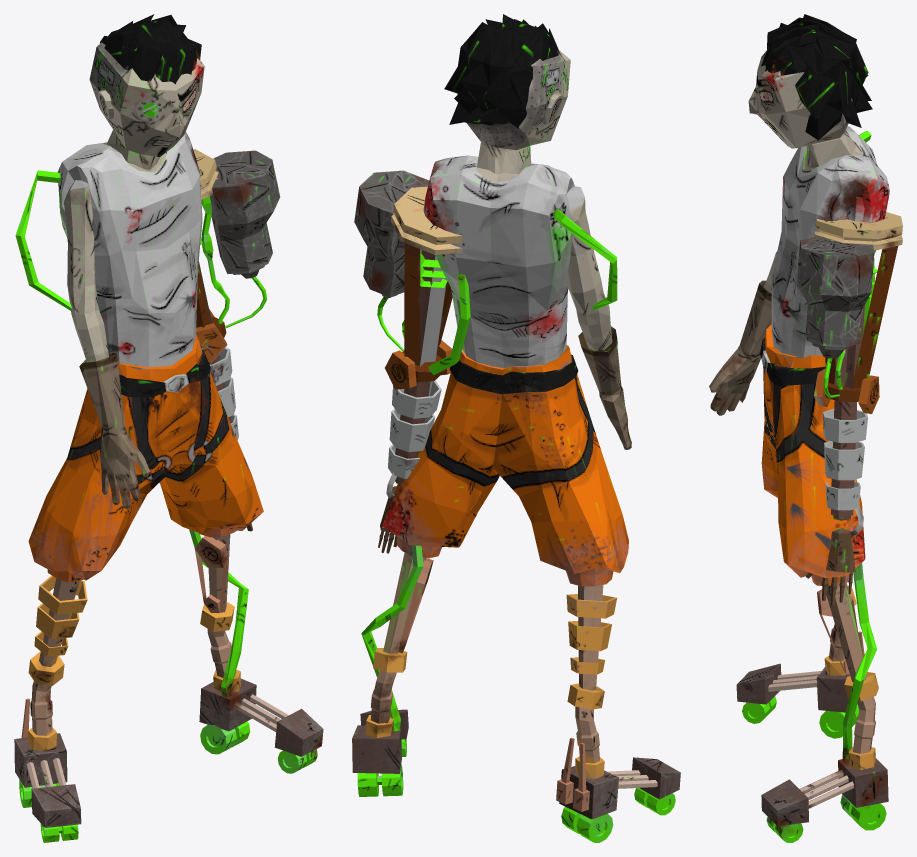
The model's file is CyborgFINALAnimation_000045.obj.
3 views of the same model, side by side, from view 1: azimuth 30°, elevation 25°; view 2: azimuth 150°, elevation 25°; view 3: azimuth 270°, elevation 25° (orthographic). The views are drawn at different scales.
Parts seen in each view (by area): view 1: CyborgMesh_Cube.002; view 2: CyborgMesh_Cube.002; view 3: CyborgMesh_Cube.002.
Part boxes in pixels (x1,y1,x2,y2): CyborgMesh_Cube.002: (14, 14, 323, 842); CyborgMesh_Cube.002: (352, 14, 680, 842); CyborgMesh_Cube.002: (709, 14, 902, 842).
Size of the model in its own units: 3.82 by 9.64 by 2.25.
